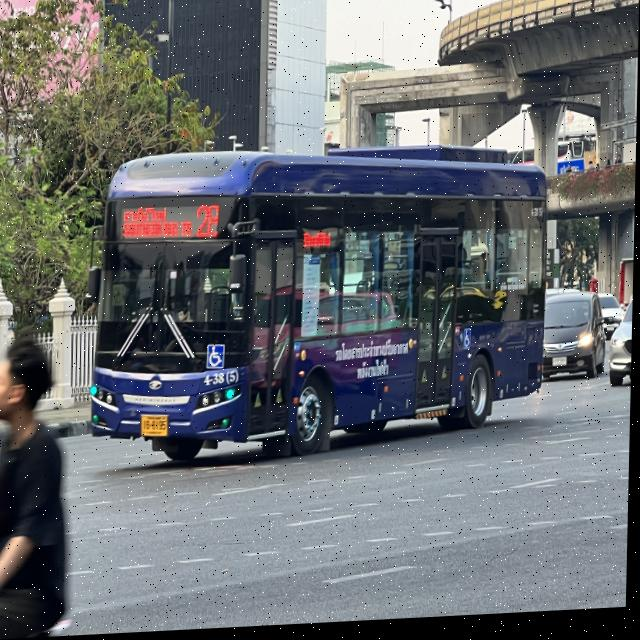Bus Line Number: (193, 201, 222, 245)
Bus Side Number: (203, 370, 243, 390)
Destination Sign: (119, 201, 196, 248)
TSB-Bus: (92, 151, 549, 466)
